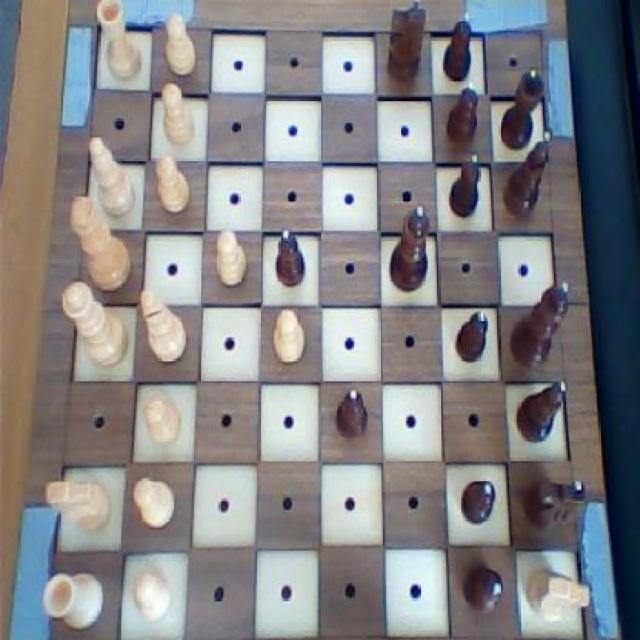bishop: (502, 128, 556, 220), (514, 375, 574, 447)
black-bishop: (508, 278, 573, 370)
black-king: (520, 472, 592, 538), (385, 0, 430, 88)
black-knight: (442, 76, 484, 156), (445, 146, 486, 222), (458, 558, 508, 617), (451, 303, 495, 369), (271, 218, 310, 291), (441, 8, 477, 84), (457, 474, 500, 530), (332, 388, 374, 444)
black-pawn: (388, 201, 433, 297)
black-queen: (497, 66, 547, 154)
black-rook: (83, 129, 139, 221), (137, 286, 194, 369)
white-bishop: (66, 192, 136, 296)
white-king: (41, 472, 116, 545), (522, 562, 594, 628)
white-knight: (129, 472, 181, 536), (128, 564, 178, 628), (155, 78, 198, 151), (151, 149, 195, 217), (160, 11, 202, 82), (140, 389, 186, 453), (211, 226, 251, 295), (269, 304, 312, 368)
white-pawn: (60, 277, 131, 371)
white-queen: (38, 566, 107, 635), (94, 0, 147, 85)
